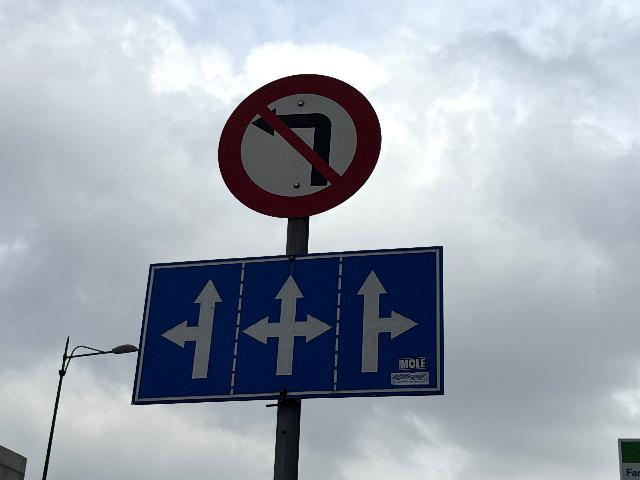cam-re-trai: (217, 73, 383, 218)
